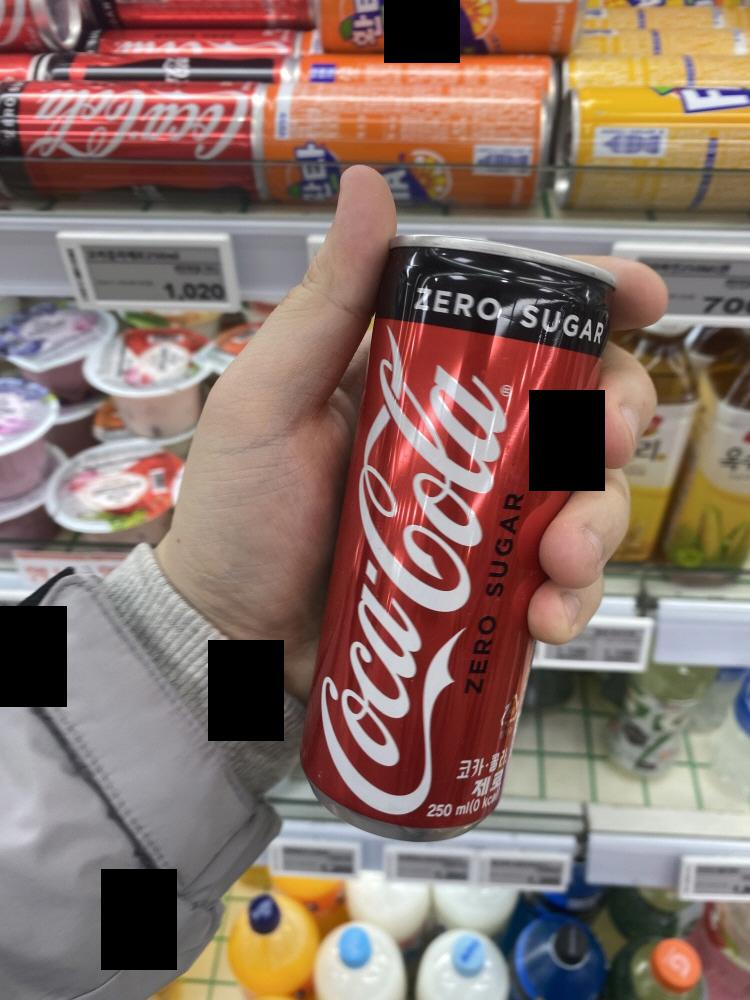cocacola_zero: (321, 220, 541, 843)
